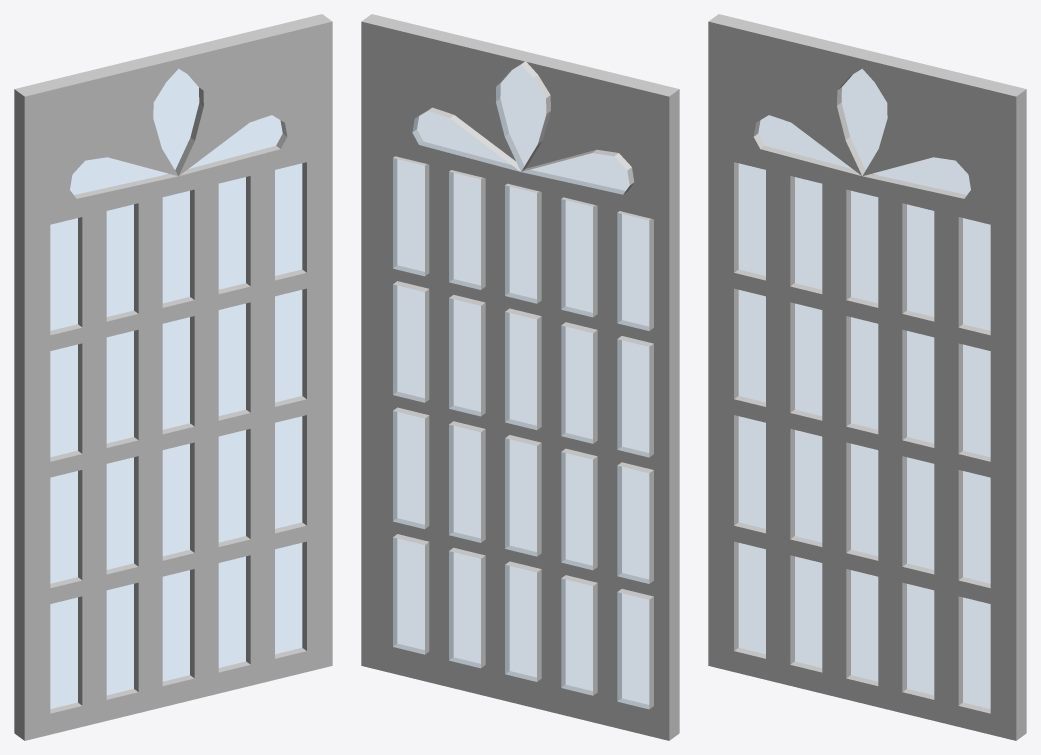
The model's file is windowtest.fbx.
3 renders of one model, left to right at view 1: azimuth 30°, elevation 25°; view 2: azimuth 150°, elevation 25°; view 3: azimuth 330°, elevation 25°, orthographic.
Parts seen in each view (by area): view 1: windowMOD; view 2: windowMOD; view 3: windowMOD.
Part boxes in pixels (box(x1,y1,x2,y2)): windowMOD: box(14, 14, 332, 740); windowMOD: box(361, 14, 679, 740); windowMOD: box(708, 14, 1026, 740).
Size of the model in its own units: 200 by 400 by 11.63.
